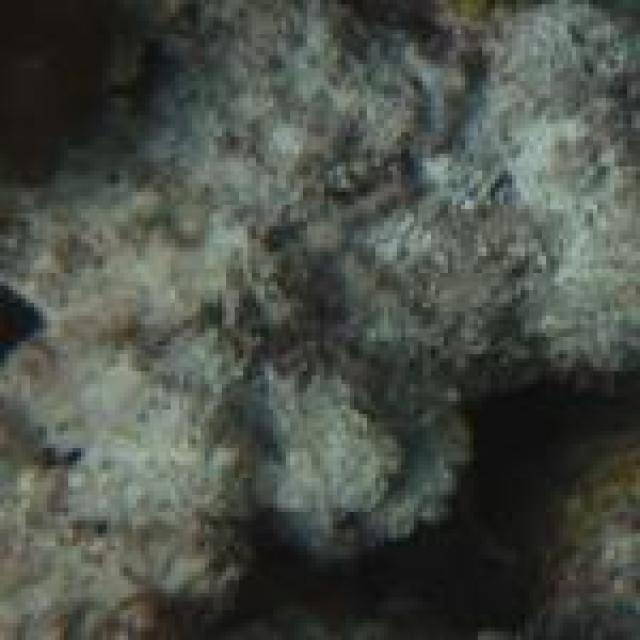Dead Coral: (73, 26, 640, 513)
